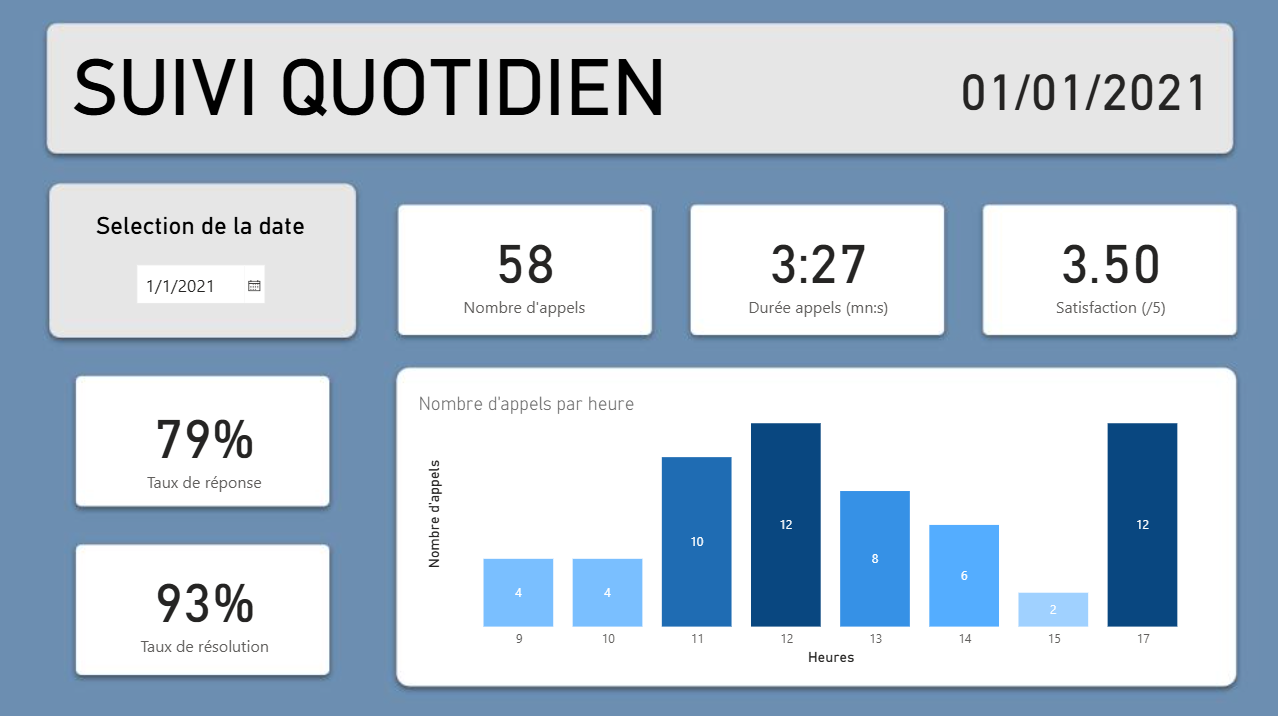

Layout of this report page (visuals, bound fields, positions):
{"tool":"powerbi","page":{"name":"SUIVI QUOTIDIEN","canvas":[1280,720],"ordinal":0},"visuals":[{"type":"columnChart","fields":{"Category":["call center data.Hour"],"Y":["Mesures journalières.Daily_number_call_ids"]},"box":[421.4,388.6,798.6,282.9],"z":0},{"type":"textbox","box":[413.9,389,259.9,48],"z":1000},{"type":"card","fields":{"Values":["Max(call center data.Date)"]},"box":[928.6,38.6,312.9,97.1],"z":2000},{"type":"card","fields":{"Values":["Mesures journalières.Daily_taux_resolution"]},"box":[95.7,552.9,217.1,111.4],"z":3000},{"type":"card","fields":{"Values":["Mesures journalières.Daily_number_call_ids"]},"box":[414.3,214.3,221.4,111.4],"z":4000},{"type":"textbox","box":[65.7,37.1,742.9,105.7],"z":5000},{"type":"card","fields":{"Values":["call center data.Durée_Moyenne__Repondus_Affichage_Chrono"]},"box":[710,214.3,217.1,111.4],"z":6000},{"type":"card","fields":{"Values":["Mesures journalières.Daily_taux_réponse"]},"box":[94.3,388.6,221.4,111.4],"z":7000},{"type":"card","fields":{"Values":["Mesures journalières.Daily_satisfaction_moyenne"]},"box":[1002.9,214.3,217.1,111.4],"z":8000},{"type":"slicer","fields":{"Values":["call center data.Date"]},"box":[124.3,208.6,158.6,111.4],"z":9000},{"type":"textbox","box":[80,207.1,247.1,54.3],"z":10000}]}

Visuals, with their boxes in screenshot pixels (x1, y1, x2, y2), scaled from the page's 1280x720 canvas onto the 1278x716 screenshot:
columnChart - call center data.Hour x Mesures journalières.Daily_number_call_ids: detection(421, 386, 1218, 668)
textbox: detection(413, 387, 673, 435)
card - Max(call center data.Date): detection(927, 38, 1240, 135)
card - Mesures journalières.Daily_taux_resolution: detection(96, 550, 312, 661)
card - Mesures journalières.Daily_number_call_ids: detection(414, 213, 635, 324)
textbox: detection(66, 37, 807, 142)
card - call center data.Durée_Moyenne__Repondus_Affichage_Chrono: detection(709, 213, 926, 324)
card - Mesures journalières.Daily_taux_réponse: detection(94, 386, 315, 497)
card - Mesures journalières.Daily_satisfaction_moyenne: detection(1001, 213, 1218, 324)
slicer - call center data.Date: detection(124, 207, 282, 318)
textbox: detection(80, 206, 327, 260)
